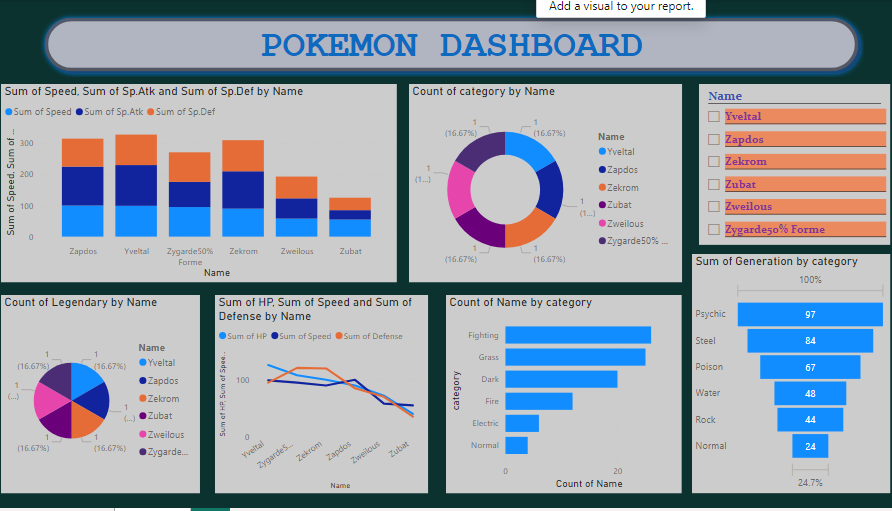

The page's visual inventory and layout, read from the dashboard file:
{"tool":"powerbi","page":{"name":"Page 1","canvas":[1280,720],"ordinal":0},"visuals":[{"type":"barChart","fields":{"Category":["Pokemon_main.category"],"Y":["CountNonNull(Pokemon_main.Name)"]},"box":[632.1,418.1,334.5,280.6],"z":0},{"type":"columnChart","fields":{"Category":["Pokemon_main.Name"],"Y":["Sum(Pokemon_main.Speed)","Sum(Pokemon_main.Sp.Atk)","Sum(Pokemon_main.Sp.Def)"]},"box":[1.4,119.1,561.3,280.6],"z":1000},{"type":"pieChart","fields":{"Category":["Pokemon_main.Name"],"Y":["CountNonNull(Pokemon_main.Legendary)"]},"box":[1.4,418.1,282,280.6],"z":2000},{"type":"funnel","fields":{"Category":["Pokemon_main.category"],"Y":["Sum(Pokemon_main.Generation)"]},"box":[980.8,360,280.6,338.7],"z":3000},{"type":"donutChart","fields":{"Category":["Pokemon_main.Name"],"Y":["CountNonNull(Pokemon_main.category)"]},"box":[579.7,119.1,386.9,280.6],"z":4000},{"type":"lineChart","fields":{"Category":["Pokemon_main.Name"],"Y":["Sum(Pokemon_main.HP)","Sum(Pokemon_main.Speed)","Sum(Pokemon_main.Defense)"]},"box":[304.7,418.1,301.9,280.6],"z":5000},{"type":"shape","box":[55.3,17,1169.3,92.1],"z":6000},{"type":"slicer","fields":{"Values":["Pokemon_main.Name"]},"box":[990.7,119.1,270.7,214],"z":6001}]}

Visuals, with their boxes in screenshot pixels (x1, y1, x2, y2):
barChart - Pokemon_main.category x CountNonNull(Pokemon_main.Name): l=443, t=305, r=682, b=505
columnChart - Pokemon_main.Name x Sum(Pokemon_main.Speed): l=0, t=92, r=394, b=292
pieChart - Pokemon_main.Name x CountNonNull(Pokemon_main.Legendary): l=0, t=305, r=195, b=505
funnel - Pokemon_main.category x Sum(Pokemon_main.Generation): l=692, t=263, r=891, b=505
donutChart - Pokemon_main.Name x CountNonNull(Pokemon_main.category): l=406, t=92, r=682, b=292
lineChart - Pokemon_main.Name x Sum(Pokemon_main.HP): l=210, t=305, r=425, b=505
shape: l=32, t=19, r=866, b=85
slicer - Pokemon_main.Name: l=699, t=92, r=891, b=244
